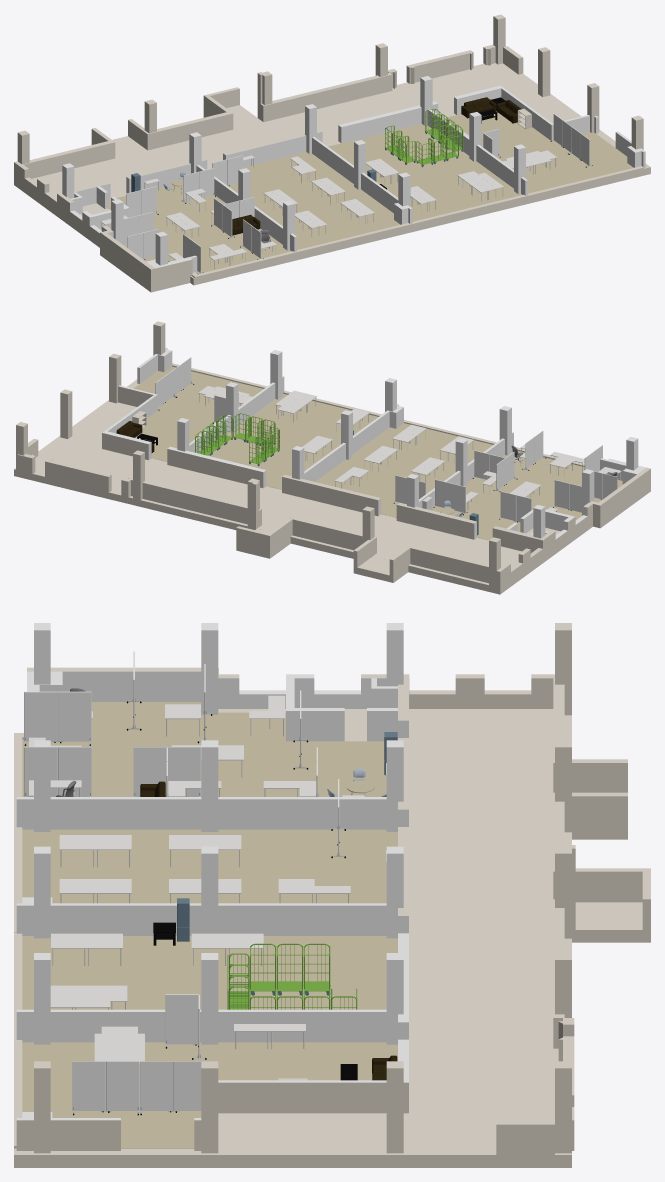
The model's file is office_20230508_build.glb.
3 views of the same model, one above another, from view 1: azimuth 30°, elevation 25°; view 2: azimuth 150°, elevation 25°; view 3: azimuth 270°, elevation 25° (orthographic). The views are drawn at different scales.
Visible parts, largest first — view 1: Rectangle010, Rectangle510, Rectangle134, Rectangle033, Rectangle003, Rectangle135, Line007, Rectangle201, Rectangle001, Line001, Rectangle002, Rectangle014 (+28 smaller); view 2: Rectangle010, Rectangle003, Rectangle510, Rectangle033, Rectangle134, Line007, Rectangle135, Rectangle201, Line001, Rectangle001, Rectangle002, Line411 (+28 smaller); view 3: Rectangle010, Rectangle134, Rectangle033, Line007, Rectangle135, Rectangle014, Rectangle001, Rectangle002, Line001, Rectangle201, Rectangle003, Rectangle510 (+43 smaller).
Boxes of the visible parts, bbox=[...] form: Rectangle010: bbox=[14, 63, 650, 292]; Rectangle510: bbox=[23, 44, 495, 178]; Rectangle134: bbox=[228, 152, 400, 249]; Rectangle033: bbox=[328, 123, 521, 221]; Rectangle003: bbox=[74, 85, 503, 206]; Rectangle135: bbox=[443, 111, 633, 193]; Line007: bbox=[108, 184, 291, 273]; Rectangle201: bbox=[57, 192, 155, 285]; Rectangle001: bbox=[312, 137, 412, 223]; Line001: bbox=[501, 87, 645, 167]; Rectangle002: bbox=[427, 108, 527, 195]; Rectangle014: bbox=[196, 165, 296, 251]; Rectangle010: bbox=[14, 379, 650, 594]; Rectangle003: bbox=[102, 431, 539, 553]; Rectangle510: bbox=[18, 454, 488, 583]; Rectangle033: bbox=[208, 393, 377, 489]; Rectangle134: bbox=[315, 423, 492, 517]; Line007: bbox=[432, 449, 622, 540]; Rectangle135: bbox=[134, 366, 263, 461]; Rectangle201: bbox=[538, 467, 650, 556]; Line001: bbox=[105, 347, 167, 433]; Rectangle001: bbox=[304, 404, 398, 481]; Rectangle002: bbox=[189, 376, 284, 452]; Line411: bbox=[236, 518, 292, 551]; Rectangle010: bbox=[14, 709, 571, 1167]; Rectangle134: bbox=[22, 829, 397, 903]; Rectangle033: bbox=[22, 936, 397, 1009]; Line007: bbox=[22, 702, 386, 796]; Rectangle135: bbox=[22, 1042, 397, 1148]; Rectangle014: bbox=[16, 797, 386, 829]; Rectangle001: bbox=[16, 903, 386, 935]; Rectangle002: bbox=[16, 1009, 386, 1042]; Line001: bbox=[16, 1080, 386, 1150]; Rectangle201: bbox=[27, 667, 409, 708]; Rectangle003: bbox=[398, 678, 408, 1113]; Rectangle510: bbox=[553, 678, 574, 1150].
Bounding box in the file's own units: 3.85 × 0.384 × 2.27.
